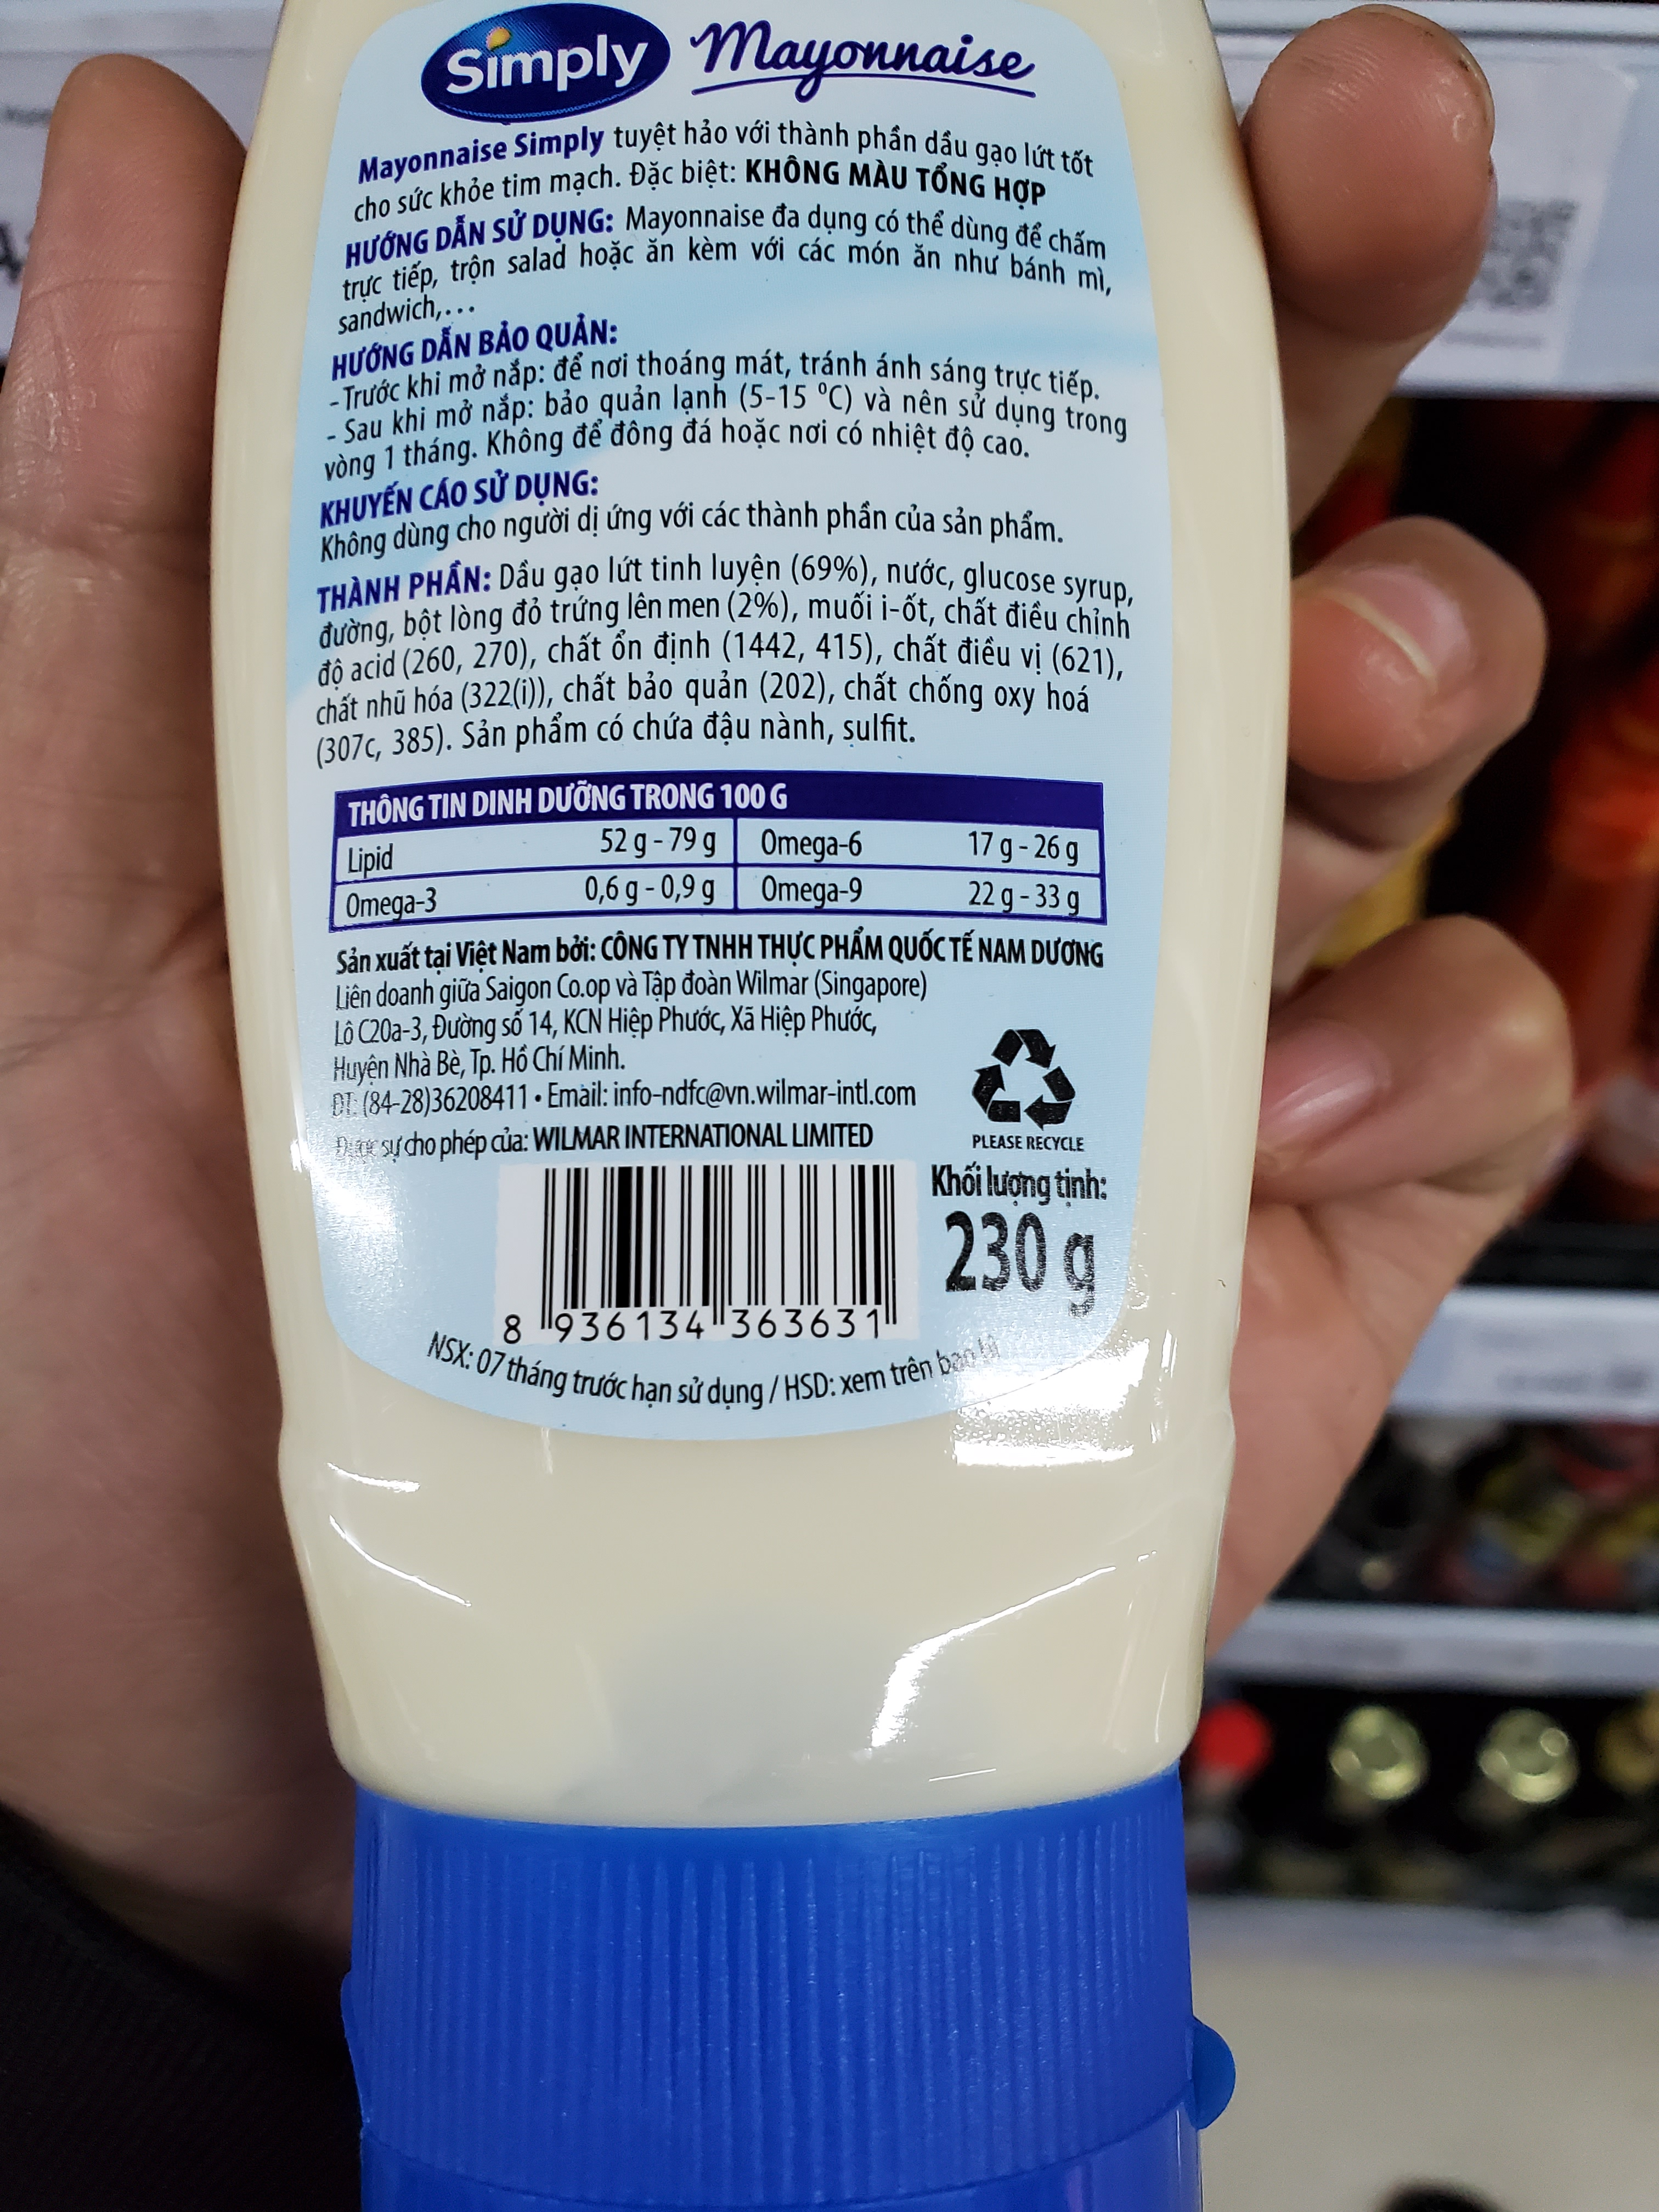barcode: (486, 1153, 931, 1348)
